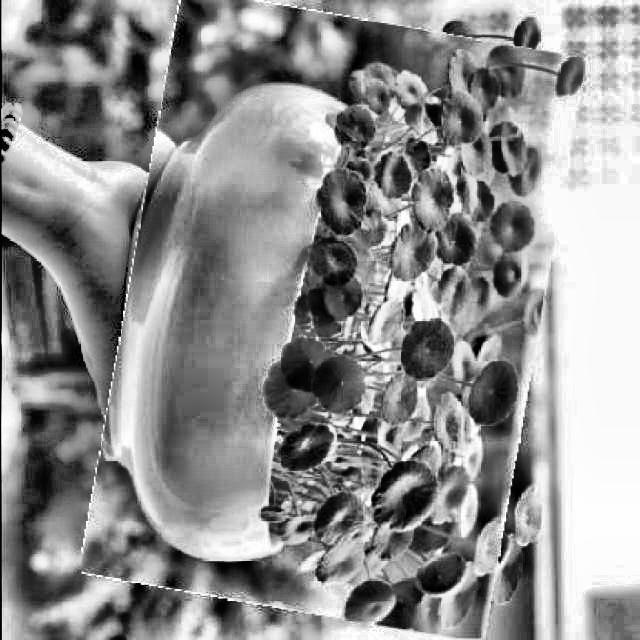plants: (102, 3, 561, 628)
